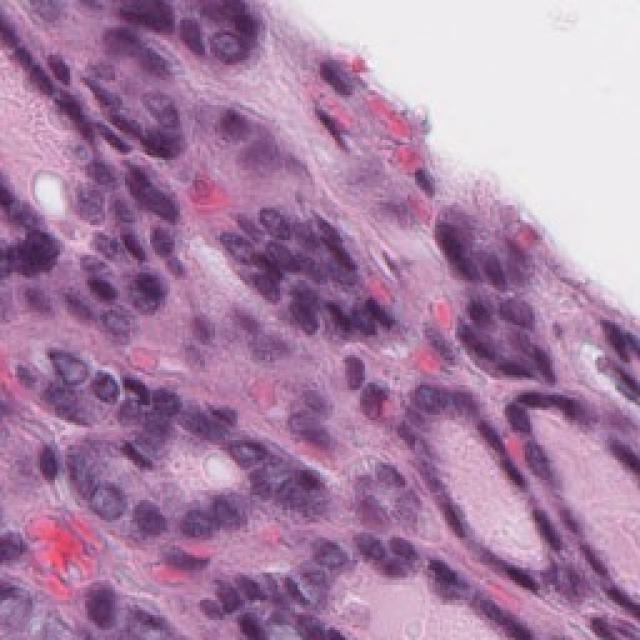normal: (495, 533, 548, 603), (426, 493, 480, 561), (516, 479, 566, 551), (516, 334, 570, 398), (595, 424, 637, 491), (403, 370, 447, 430), (588, 312, 640, 359), (495, 394, 538, 443), (520, 433, 553, 488)
